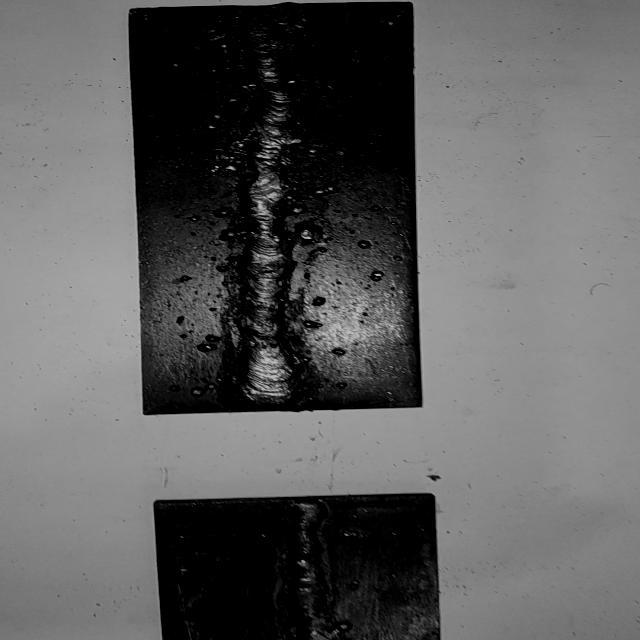Defect: (196, 118, 335, 180), (211, 5, 316, 50), (285, 217, 334, 251)
Welding Line: (220, 7, 298, 406), (286, 498, 336, 640)
Workpiece: (124, 2, 432, 414), (148, 492, 450, 640)
